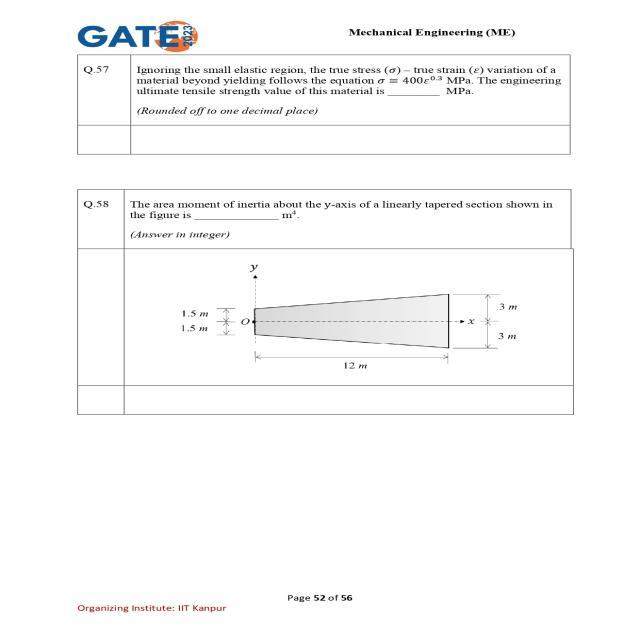Question_Answer_Block: (77, 188, 571, 382), (77, 57, 573, 153)
Question_Block: (75, 186, 575, 382), (75, 54, 573, 152)
Question_Paper_Area: (76, 56, 574, 414)
